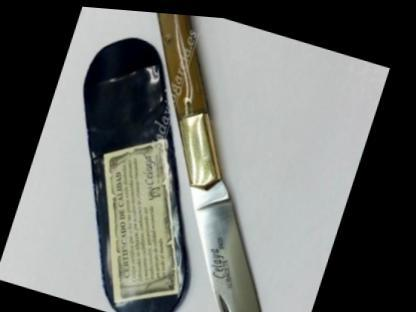knife: (148, 160, 336, 311)
